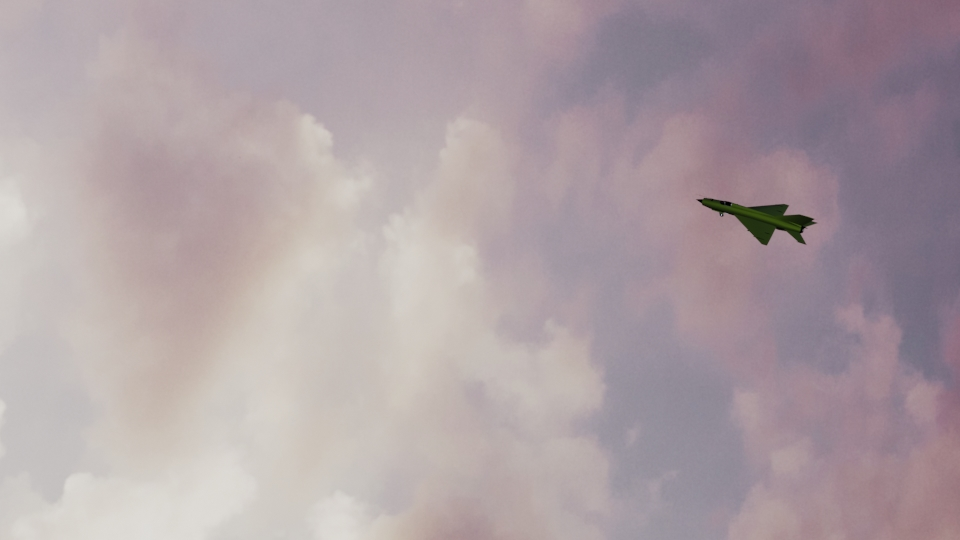plane: (695, 196, 816, 248)
